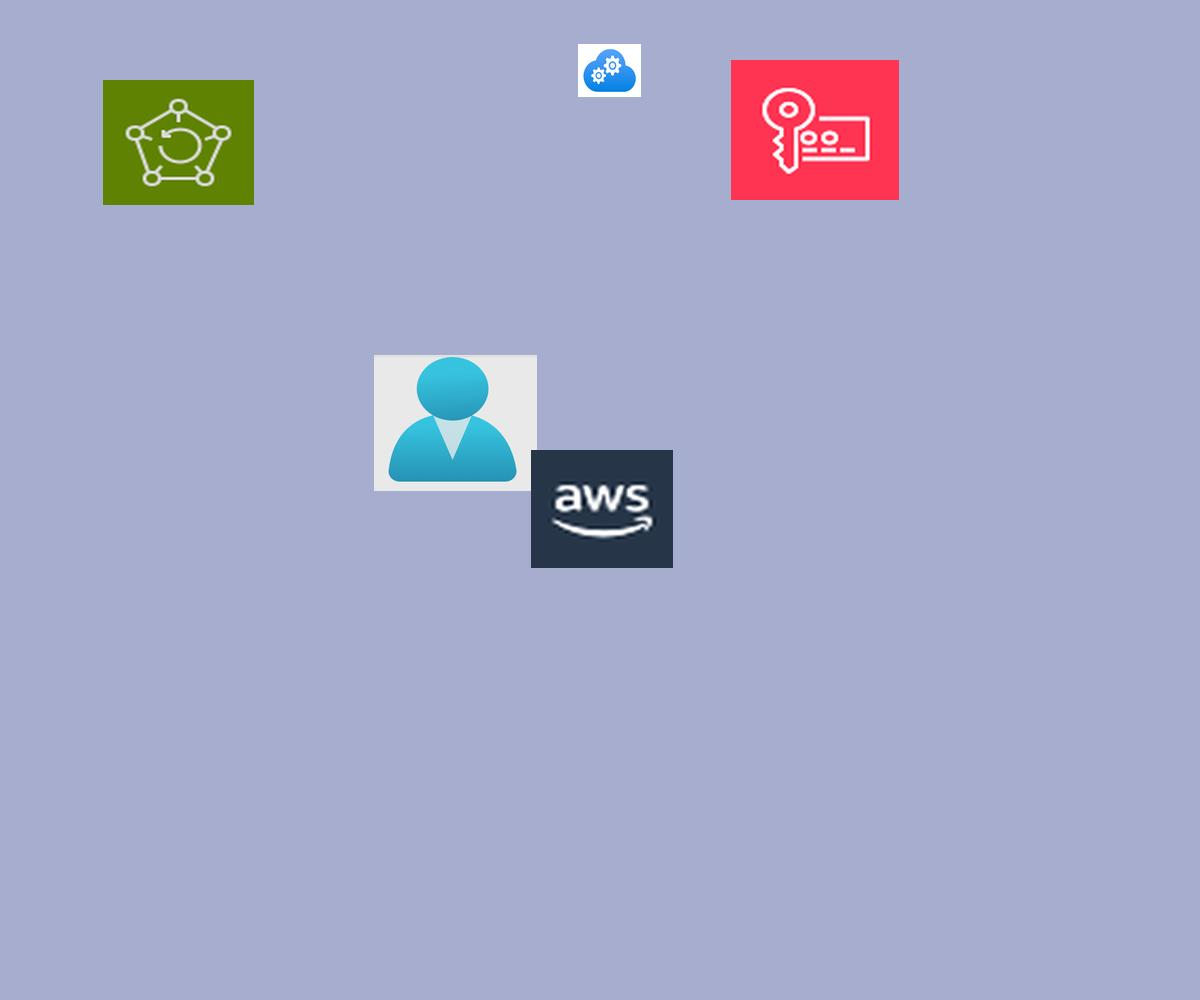AWS-Backup: (103, 80, 254, 205)
AWS-Cloud-logo: (531, 450, 673, 568)
AWS-Key-Management-Service: (731, 60, 899, 200)
Azure_cloud_services: (578, 44, 641, 97)
Azure_users: (374, 355, 537, 491)
